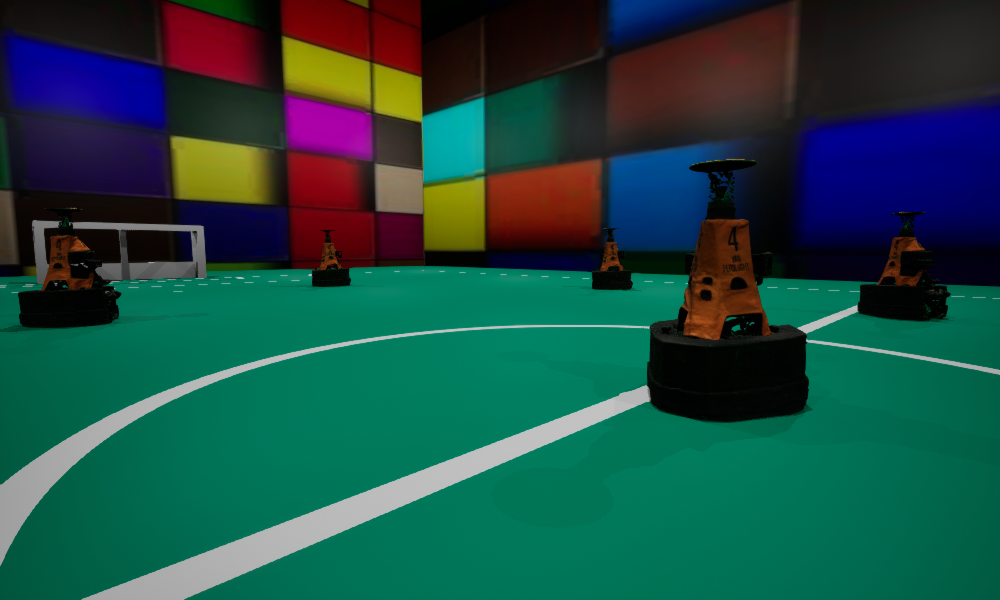0 orange robot TechUnited: (647, 159, 808, 421), (18, 208, 121, 327), (858, 212, 950, 320), (592, 228, 632, 289), (312, 230, 350, 286)
